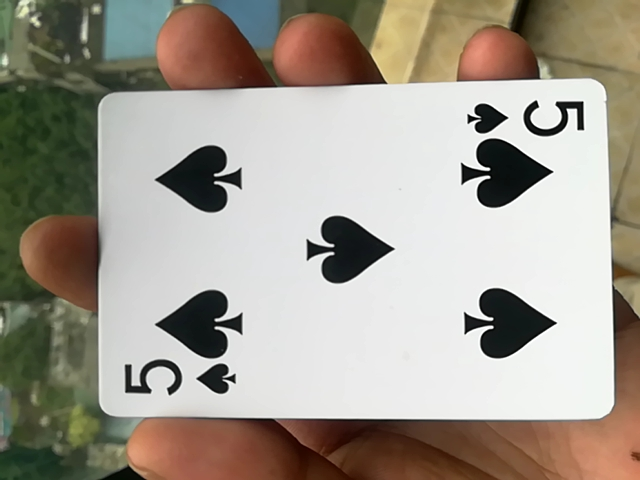ht 5: (75, 87, 619, 436)
